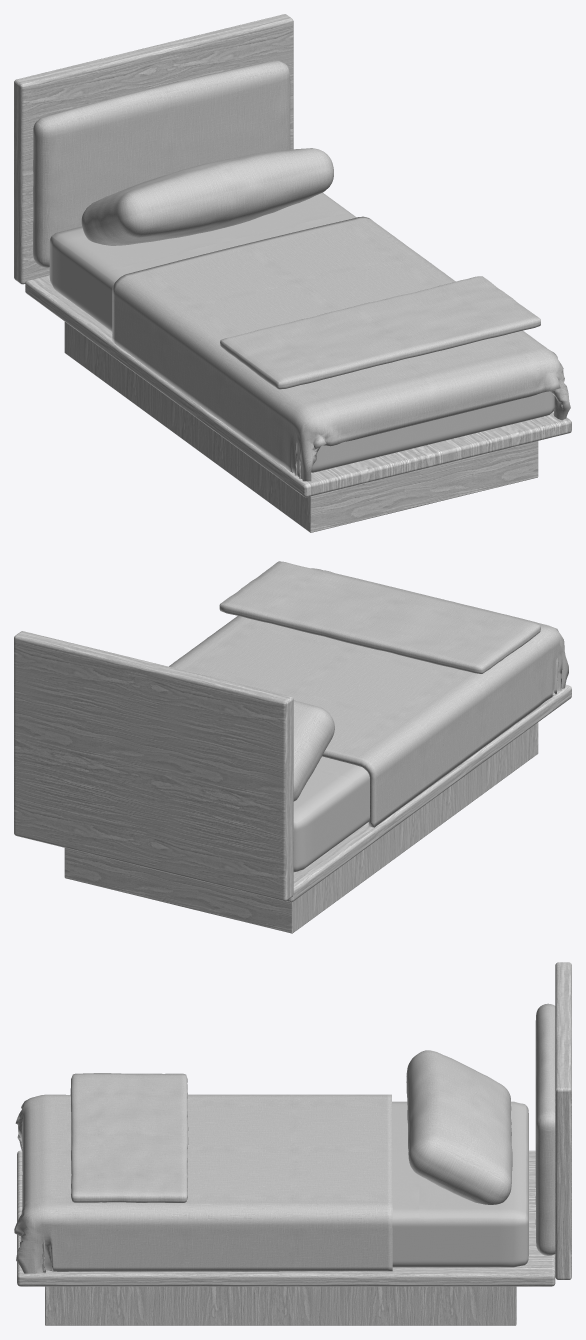
Rendered from bed-super-single.gltf.
3 renders of one model, top to bottom at view 1: azimuth 30°, elevation 25°; view 2: azimuth 150°, elevation 25°; view 3: azimuth 270°, elevation 25°, orthographic. The views are drawn at different scales.
Visible parts, largest first — view 1: bed; view 2: bed; view 3: bed.
Boxes of the visible parts, x1,y1,x2,y2 form: bed: (14, 14, 571, 532); bed: (14, 561, 571, 933); bed: (14, 962, 571, 1325).
Size of the model in its own units: 1.09 by 0.9844 by 2.01.
4 materials, 4 textured.
